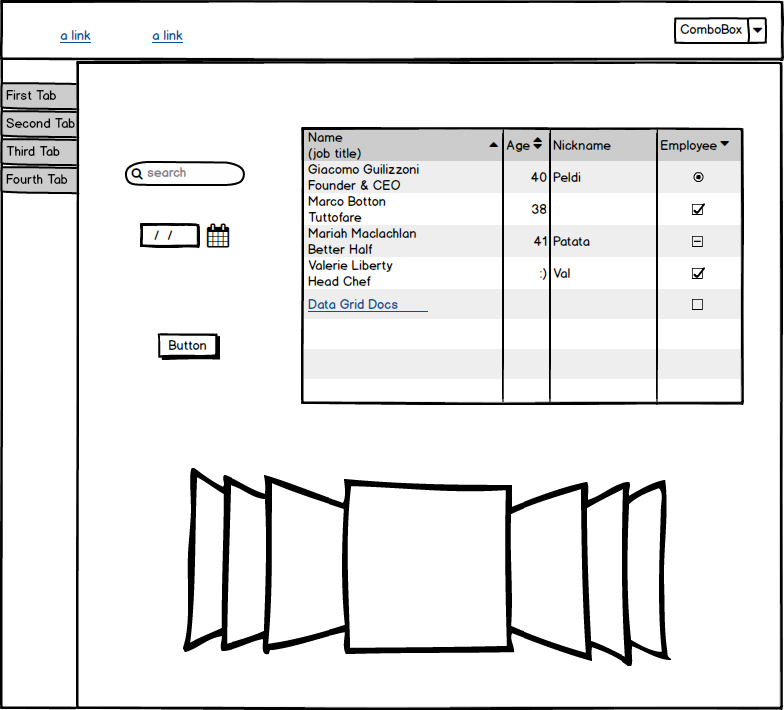button: (152, 327, 228, 365)
date_picker: (135, 216, 236, 251)
navlink: (147, 24, 196, 46), (54, 26, 96, 45)
search: (120, 156, 250, 189)
select_box: (666, 8, 769, 50)
sidebar: (1, 76, 80, 199)
slideshow: (177, 461, 677, 671)
table: (294, 122, 750, 411)
